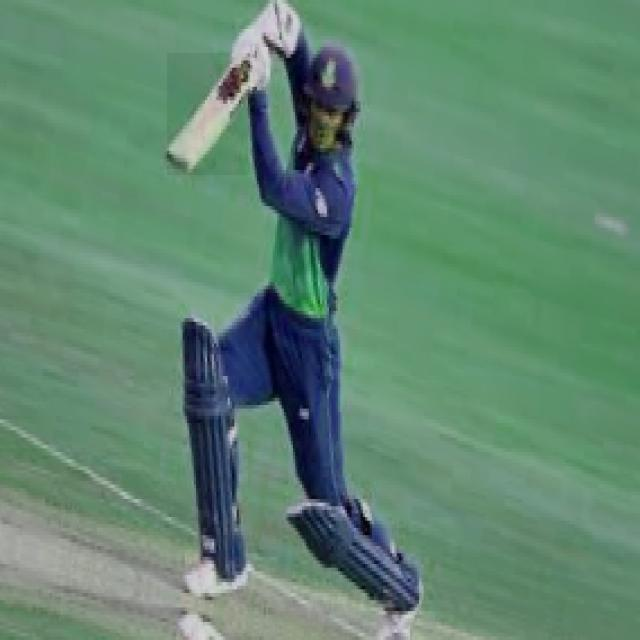bat: (169, 55, 256, 176)
toe: (161, 146, 190, 177)
